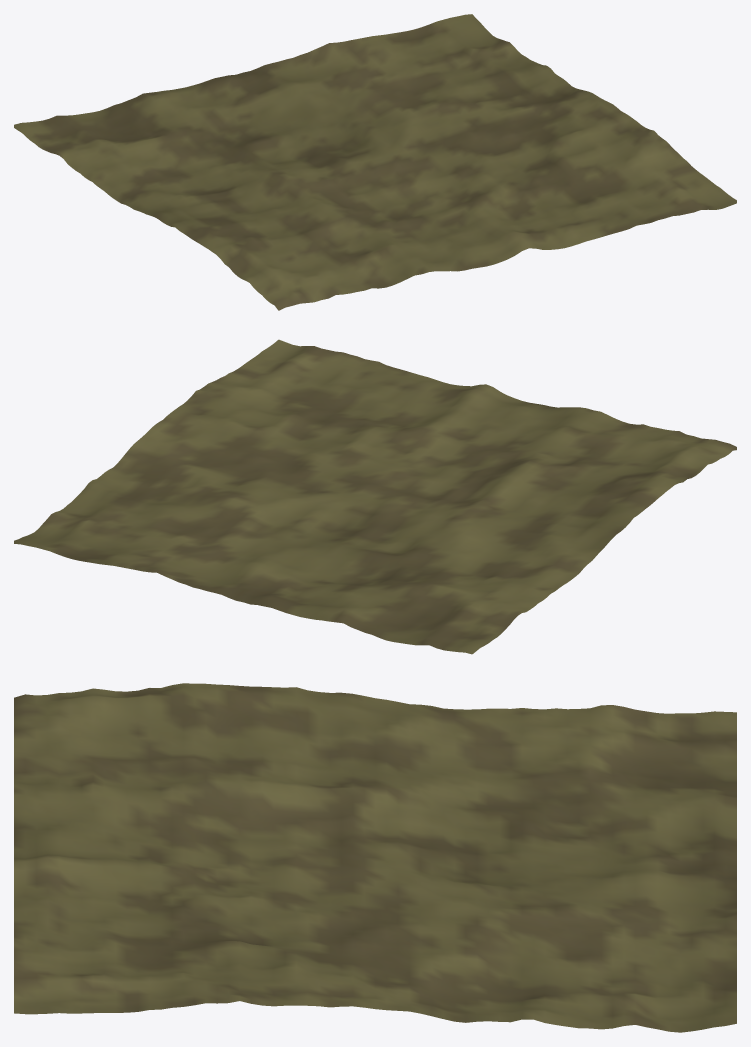
File: land_f_02_01.glb
The picture shows the model from 3 angles, top to bottom: view 1: azimuth 30°, elevation 25°; view 2: azimuth 150°, elevation 25°; view 3: azimuth 270°, elevation 25°; orthographic projection. The views are drawn at different scales.
Parts seen in each view (by area): view 1: land_f_02_01; view 2: land_f_02_01; view 3: land_f_02_01.
Part boxes in pixels (<box>): land_f_02_01: <box>14,14,736,310</box>; land_f_02_01: <box>14,339,736,654</box>; land_f_02_01: <box>14,683,736,1032</box>.
Bounding box in the file's own units: 3840 × 275 × 3840.
